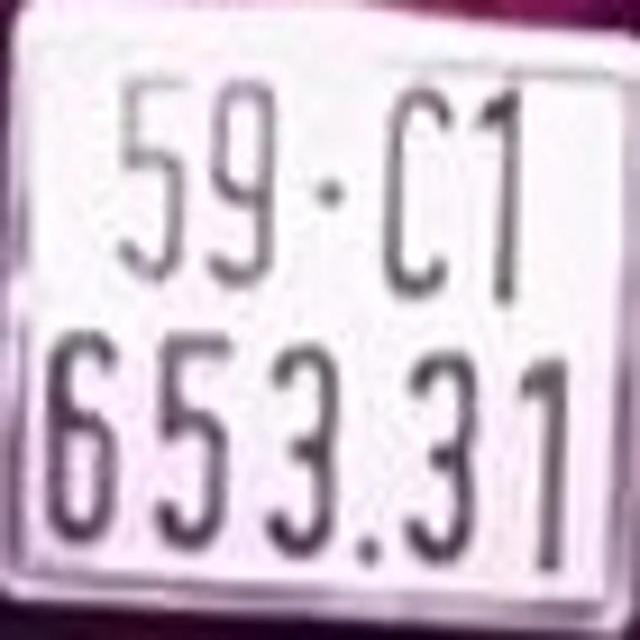1: (470, 81, 530, 308), (516, 350, 575, 572)
3: (403, 342, 479, 564), (267, 337, 339, 558)
5: (154, 326, 234, 551), (112, 64, 192, 287)
6: (42, 322, 122, 543)
9: (206, 70, 280, 290)
C: (378, 81, 458, 300)
